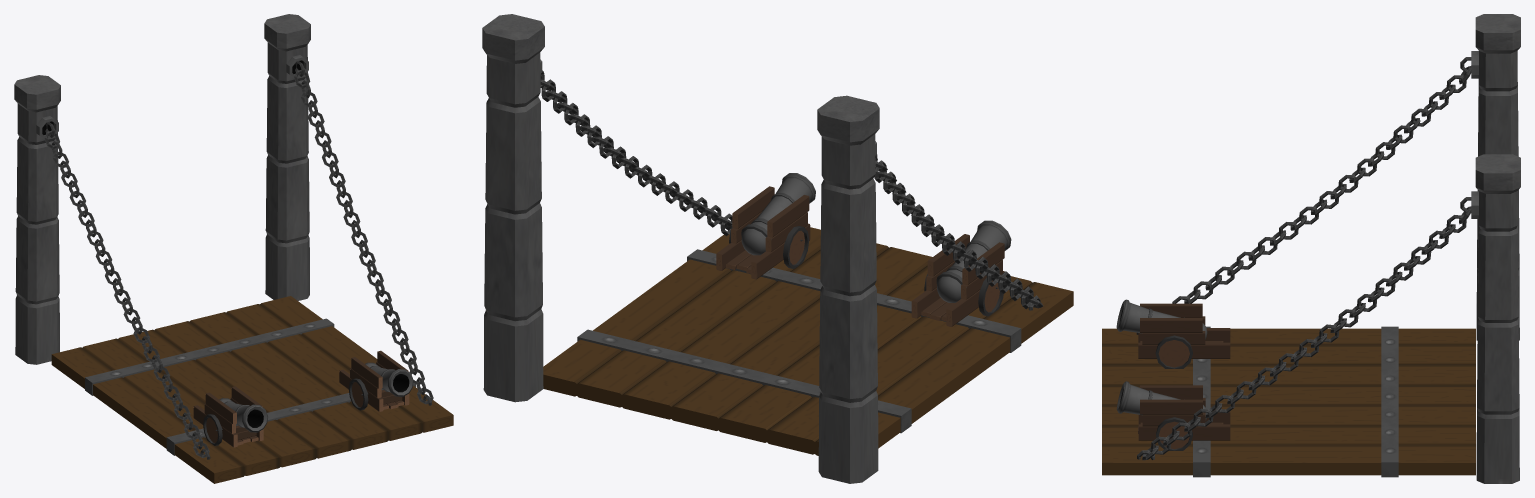
Rendered from Plataforma Puente Cañon Ambos.fbx.
The picture shows the model from 3 angles, left to right: view 1: azimuth 30°, elevation 25°; view 2: azimuth 150°, elevation 25°; view 3: azimuth 270°, elevation 25°; orthographic projection. The views are drawn at different scales.
Visible parts, largest first — view 1: Puente.004, Torre.004, Torre2.004, Torus.292, Torus.327, Metal Puente.004, Metal Puente 2.004, Cylinder.015, Cylinder.010, Cylinder.017, Cylinder.012, Cube.111 (+1 smaller); view 2: Puente.004, Torre.004, Torre2.004, Torus.327, Metal Puente.004, Torus.292, Metal Puente 2.004, Cylinder.015, Cylinder.010, Cylinder.017, Cube.111, Cube.108 (+3 smaller); view 3: Puente.004, Torre2.004, Torre.004, Torus.327, Torus.292, Metal Puente.004, Metal Puente 2.004, Cylinder.011, Cube.108, Cube.114, Cylinder.010, Cube.186 (+7 smaller).
Boxes of the visible parts, x1,y1,x2,y2 form: Puente.004: [51, 296, 453, 483]; Torre.004: [14, 75, 60, 364]; Torre2.004: [264, 14, 310, 300]; Torus.292: [44, 122, 210, 459]; Torus.327: [294, 61, 433, 405]; Metal Puente.004: [85, 318, 334, 395]; Metal Puente 2.004: [166, 383, 415, 455]; Cylinder.015: [365, 362, 413, 396]; Cylinder.010: [219, 398, 267, 432]; Cylinder.017: [348, 378, 368, 410]; Cylinder.012: [203, 414, 222, 445]; Cube.111: [351, 357, 382, 388]; Puente.004: [543, 227, 1073, 455]; Torre.004: [817, 95, 879, 483]; Torre2.004: [482, 14, 544, 402]; Torus.327: [540, 70, 732, 236]; Metal Puente.004: [577, 329, 911, 433]; Torus.292: [874, 154, 1043, 310]; Metal Puente 2.004: [687, 249, 1021, 352]; Cylinder.015: [741, 173, 815, 255]; Cylinder.010: [936, 220, 1011, 302]; Cylinder.017: [783, 226, 809, 268]; Cube.111: [767, 195, 809, 237]; Cube.108: [732, 186, 774, 228]; Puente.004: [1102, 328, 1475, 475]; Torre2.004: [1475, 154, 1520, 483]; Torre.004: [1475, 14, 1520, 340]; Torus.327: [1137, 197, 1471, 460]; Torus.292: [1136, 57, 1471, 334]; Metal Puente.004: [1381, 326, 1398, 477]; Metal Puente 2.004: [1193, 326, 1210, 477]; Cylinder.011: [1155, 335, 1192, 368]; Cube.108: [1140, 399, 1202, 414]; Cube.114: [1140, 318, 1202, 332]; Cylinder.010: [1116, 299, 1207, 339]; Cube.186: [1138, 342, 1230, 358].
Size of the model in its own units: 1006 by 930 by 1117.
